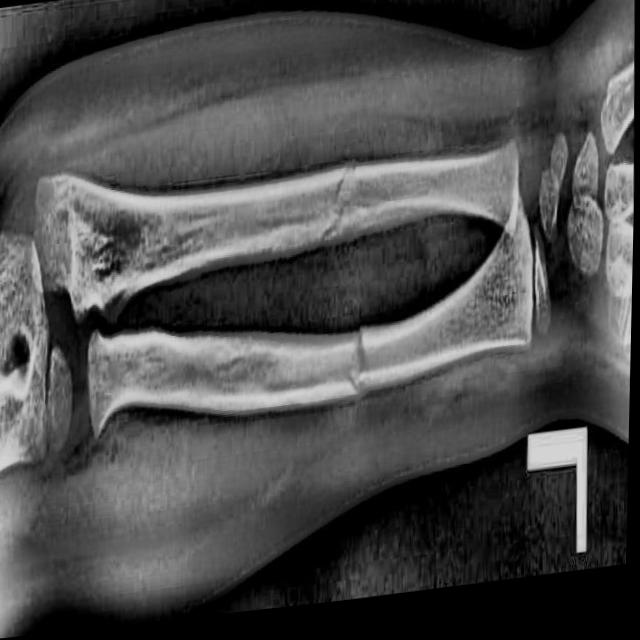fracture: (320, 170, 357, 253), (348, 335, 371, 409)
